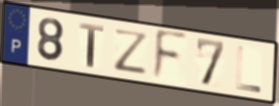7: (195, 36, 227, 89)
8: (37, 17, 66, 63)
F: (151, 27, 190, 83)
L: (234, 44, 263, 95)
T: (78, 21, 105, 70)
Z: (112, 27, 151, 77)
